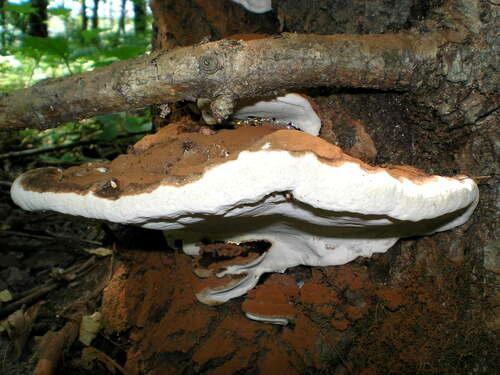Ganoderma - Fruit Body: (15, 113, 476, 298)
